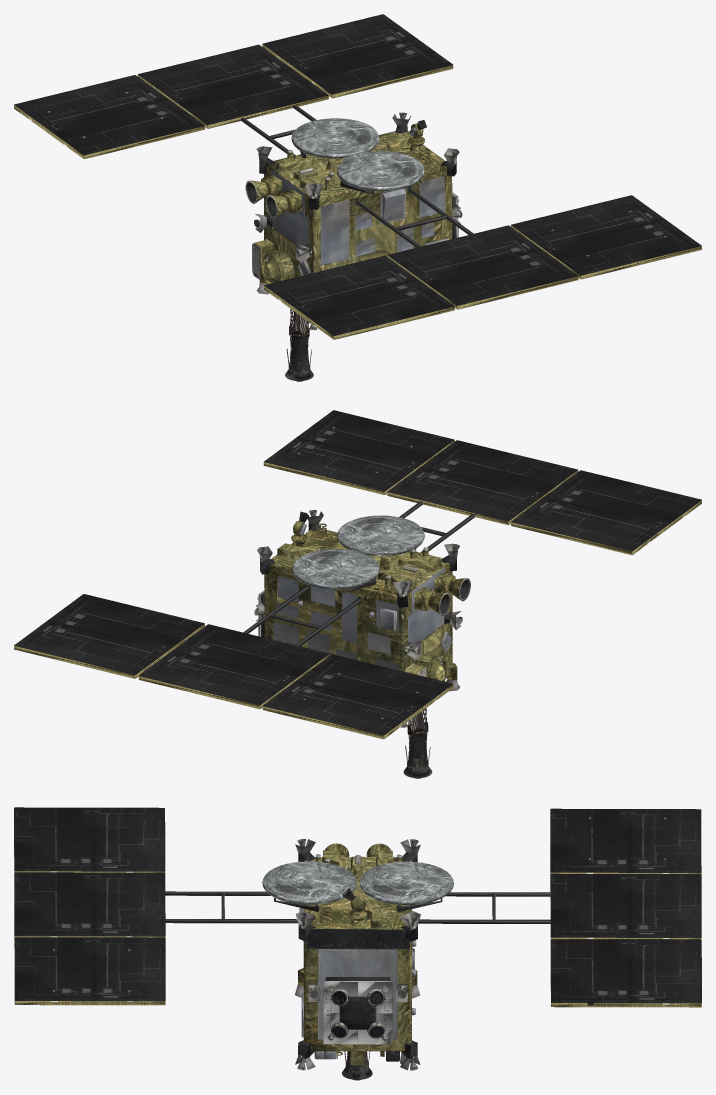
Rendered from Hayabusa2_Model_4.fbx.
3 views of the same model, one above another, from view 1: azimuth 30°, elevation 25°; view 2: azimuth 150°, elevation 25°; view 3: azimuth 270°, elevation 25° (orthographic). The views are drawn at different scales.
Visible parts, largest first — view 1: all5.001; view 2: all5.001; view 3: all5.001.
Boxes of the visible parts, x1,y1,x2,y2 form: all5.001: (14,14,701,381); all5.001: (14,410,701,778); all5.001: (14,807,701,1080).
Size of the model in its own units: 335 by 201 by 501.
19 materials, 19 textured.
